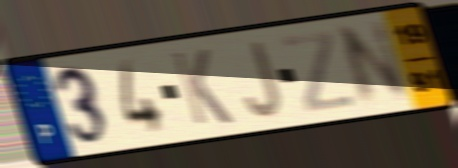3: (51, 60, 119, 149)
4: (118, 57, 167, 135)
J: (241, 38, 285, 121)
K: (168, 47, 237, 129)
N: (334, 16, 413, 112)
Z: (280, 28, 357, 116)
